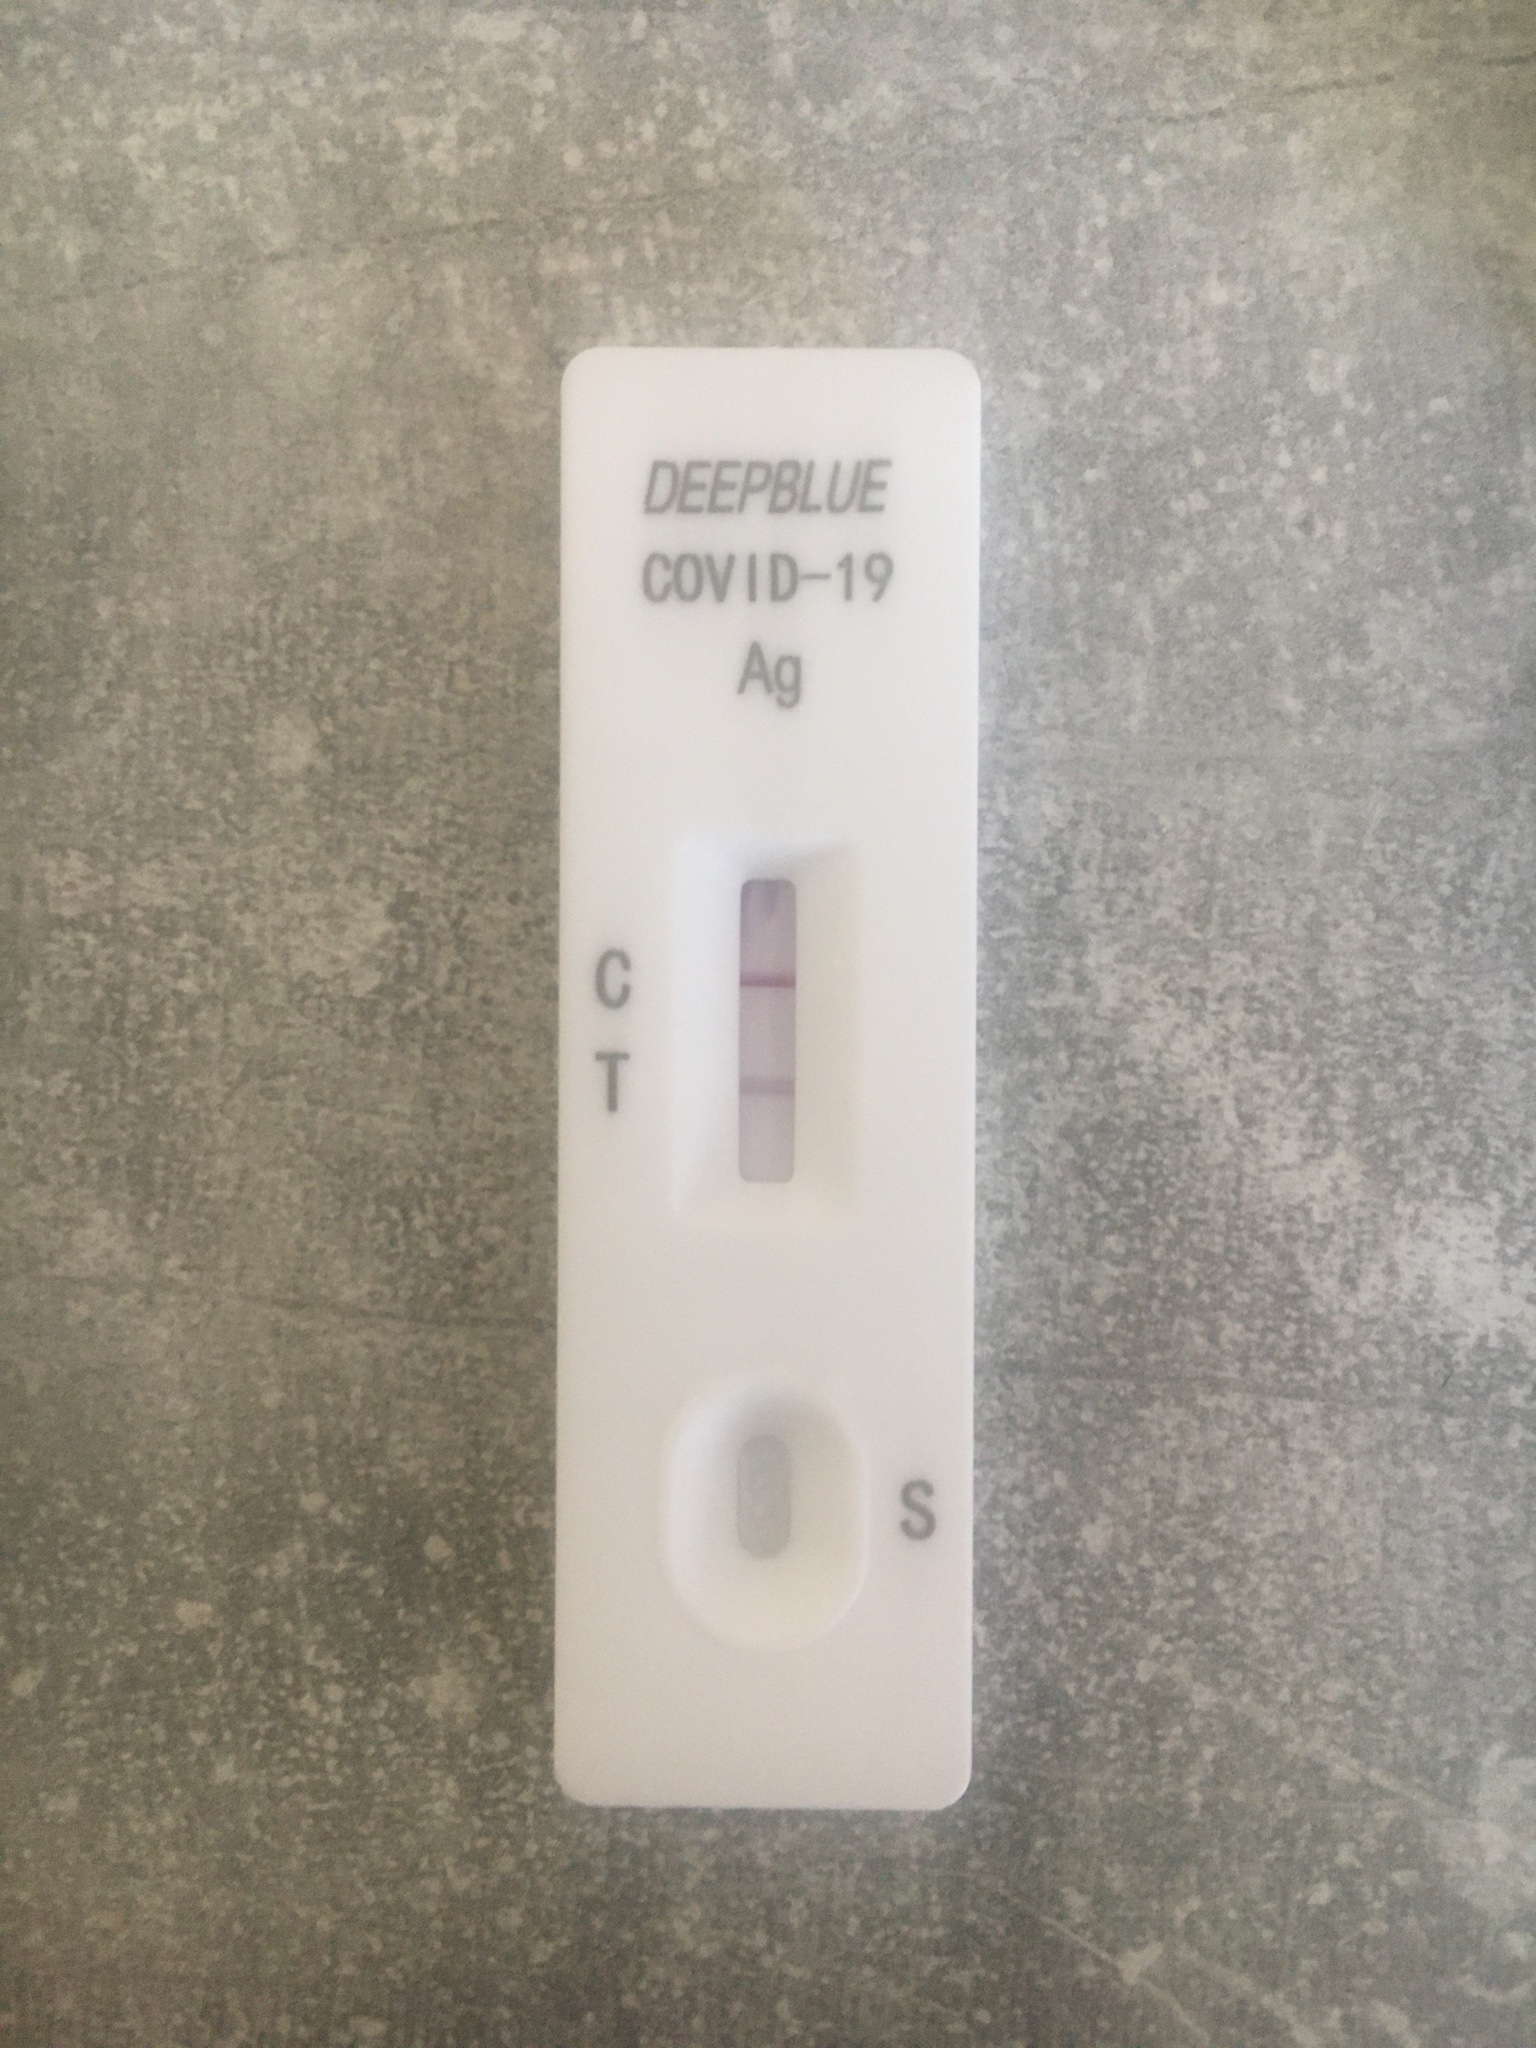positive: (720, 861, 820, 1201)
